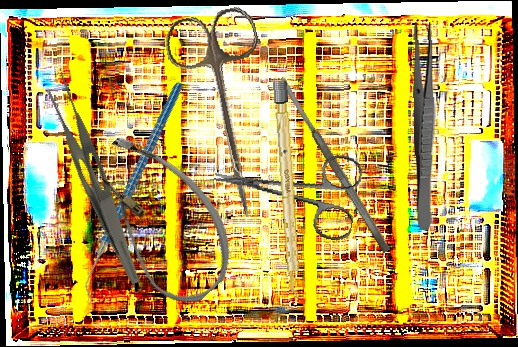Cannula: (63, 119, 256, 319)
Chopper: (22, 80, 246, 307)
Dressing Forceps: (33, 70, 163, 286), (412, 21, 438, 231)
Iris Scissors: (160, 3, 297, 227), (207, 132, 365, 243)
Scalpel Handle: (272, 80, 303, 300)
Spatula Surgical: (277, 74, 392, 255)
